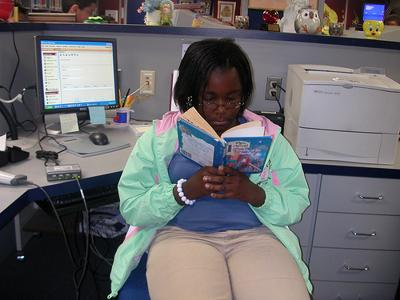person: (110, 37, 317, 300)
